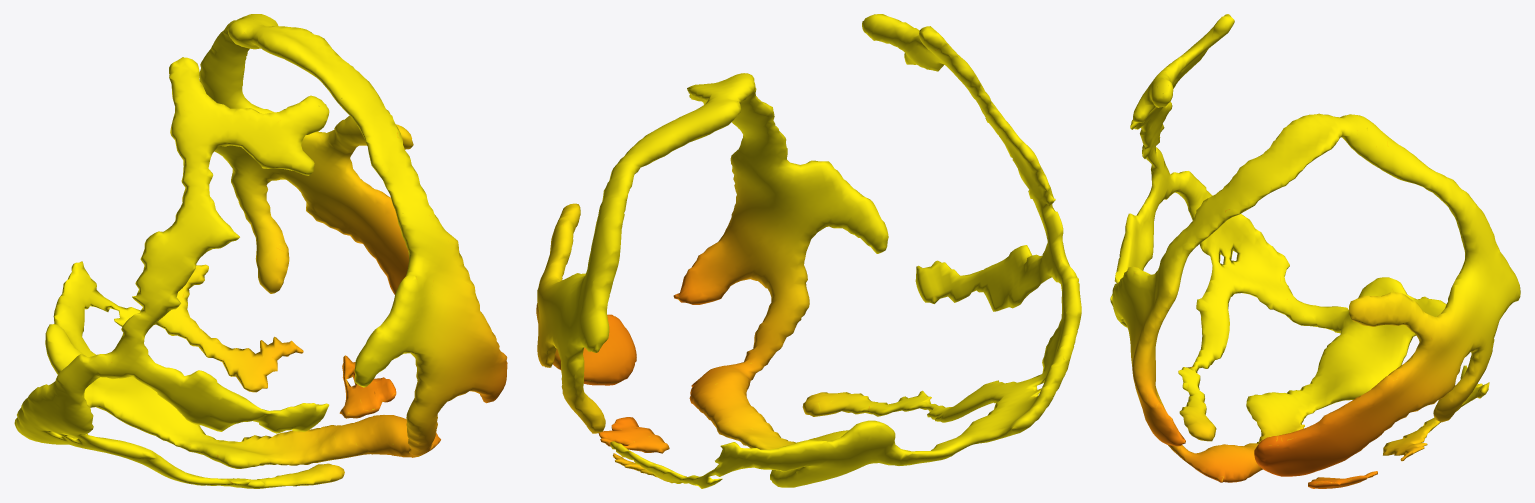
The model's file is fataction.glb.
3 renders of one model, left to right at view 1: azimuth 30°, elevation 25°; view 2: azimuth 150°, elevation 25°; view 3: azimuth 270°, elevation 25°, orthographic. The views are drawn at different scales.
Visible parts, largest first — view 1: Mball.010; view 2: Mball.010; view 3: Mball.010.
Part boxes in pixels (bbox=[...]): Mball.010: bbox=[14, 14, 507, 488]; Mball.010: bbox=[536, 14, 1081, 488]; Mball.010: bbox=[1110, 14, 1520, 488].
Bounding box in the file's own units: 3.12 × 2.89 × 2.84.
1 material, 1 textured.
